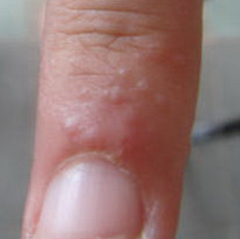Diseased: (49, 29, 180, 177)
